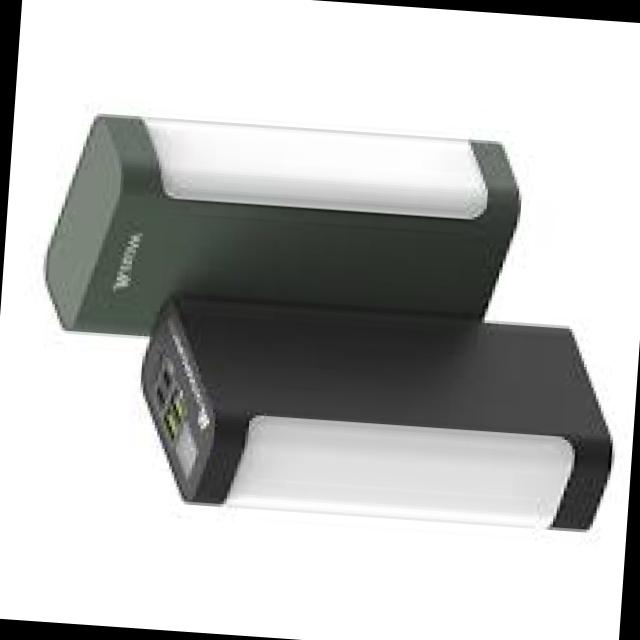portable-charger: (33, 101, 530, 369), (123, 292, 626, 536)
